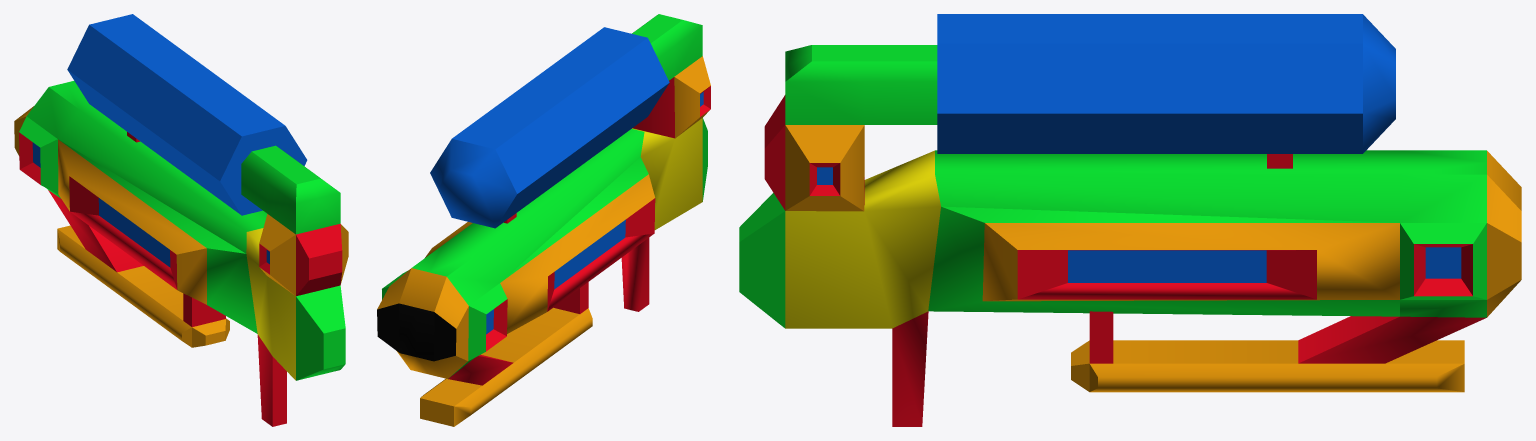
File: WaterGun2.fbx
The picture shows the model from 3 angles, left to right: view 1: azimuth 30°, elevation 25°; view 2: azimuth 150°, elevation 25°; view 3: azimuth 270°, elevation 25°; orthographic projection. The views are drawn at different scales.
Parts seen in each view (by area): view 1: pCube4; view 2: pCube4; view 3: pCube4.
Boxes of the visible parts, x1,y1,x2,y2 form: pCube4: [14, 14, 348, 426]; pCube4: [377, 14, 710, 426]; pCube4: [739, 14, 1521, 426].
Bounding box in the file's own units: 2.66 × 6.17 × 11.12.
